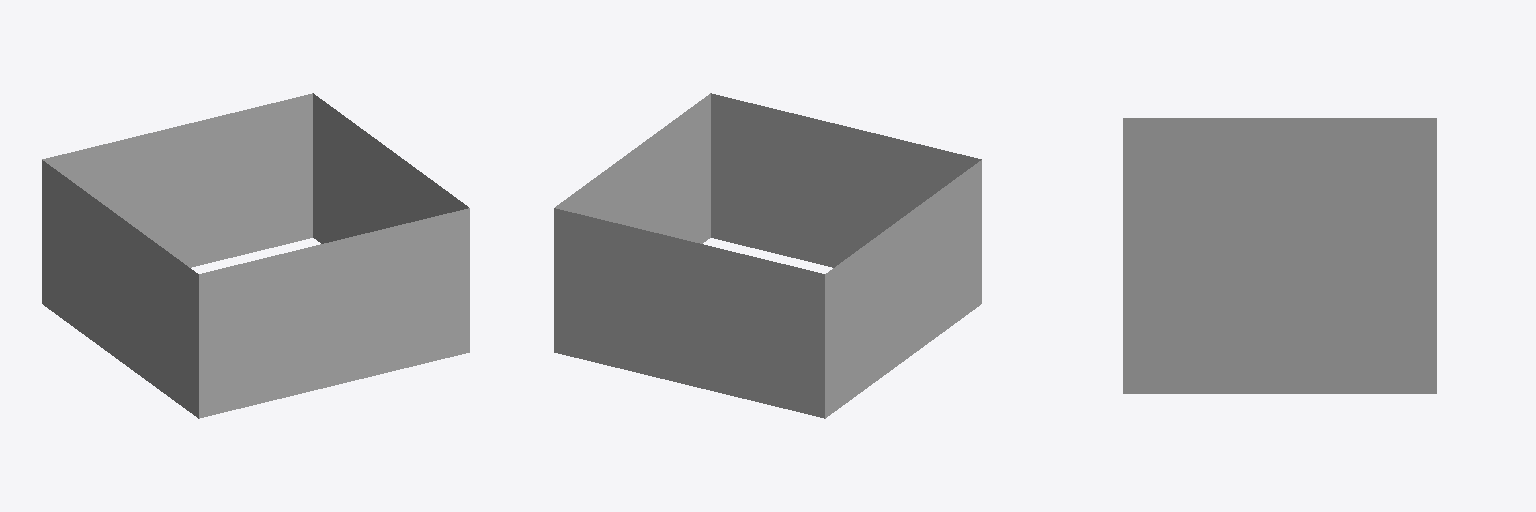
Rendered from walls.obj.
3 renders of one model, left to right at view 1: azimuth 30°, elevation 25°; view 2: azimuth 150°, elevation 25°; view 3: azimuth 270°, elevation 25°, orthographic.
Visible parts, largest first — view 1: Plane.009_Plane.014; view 2: Plane.009_Plane.014; view 3: Plane.009_Plane.014.
Part boxes in pixels (x1,y1,x2,y2): Plane.009_Plane.014: (42,93,469,418); Plane.009_Plane.014: (554,93,981,418); Plane.009_Plane.014: (1123,118,1436,393).
Size of the model in its own units: 12.94 by 6.58 by 12.94.